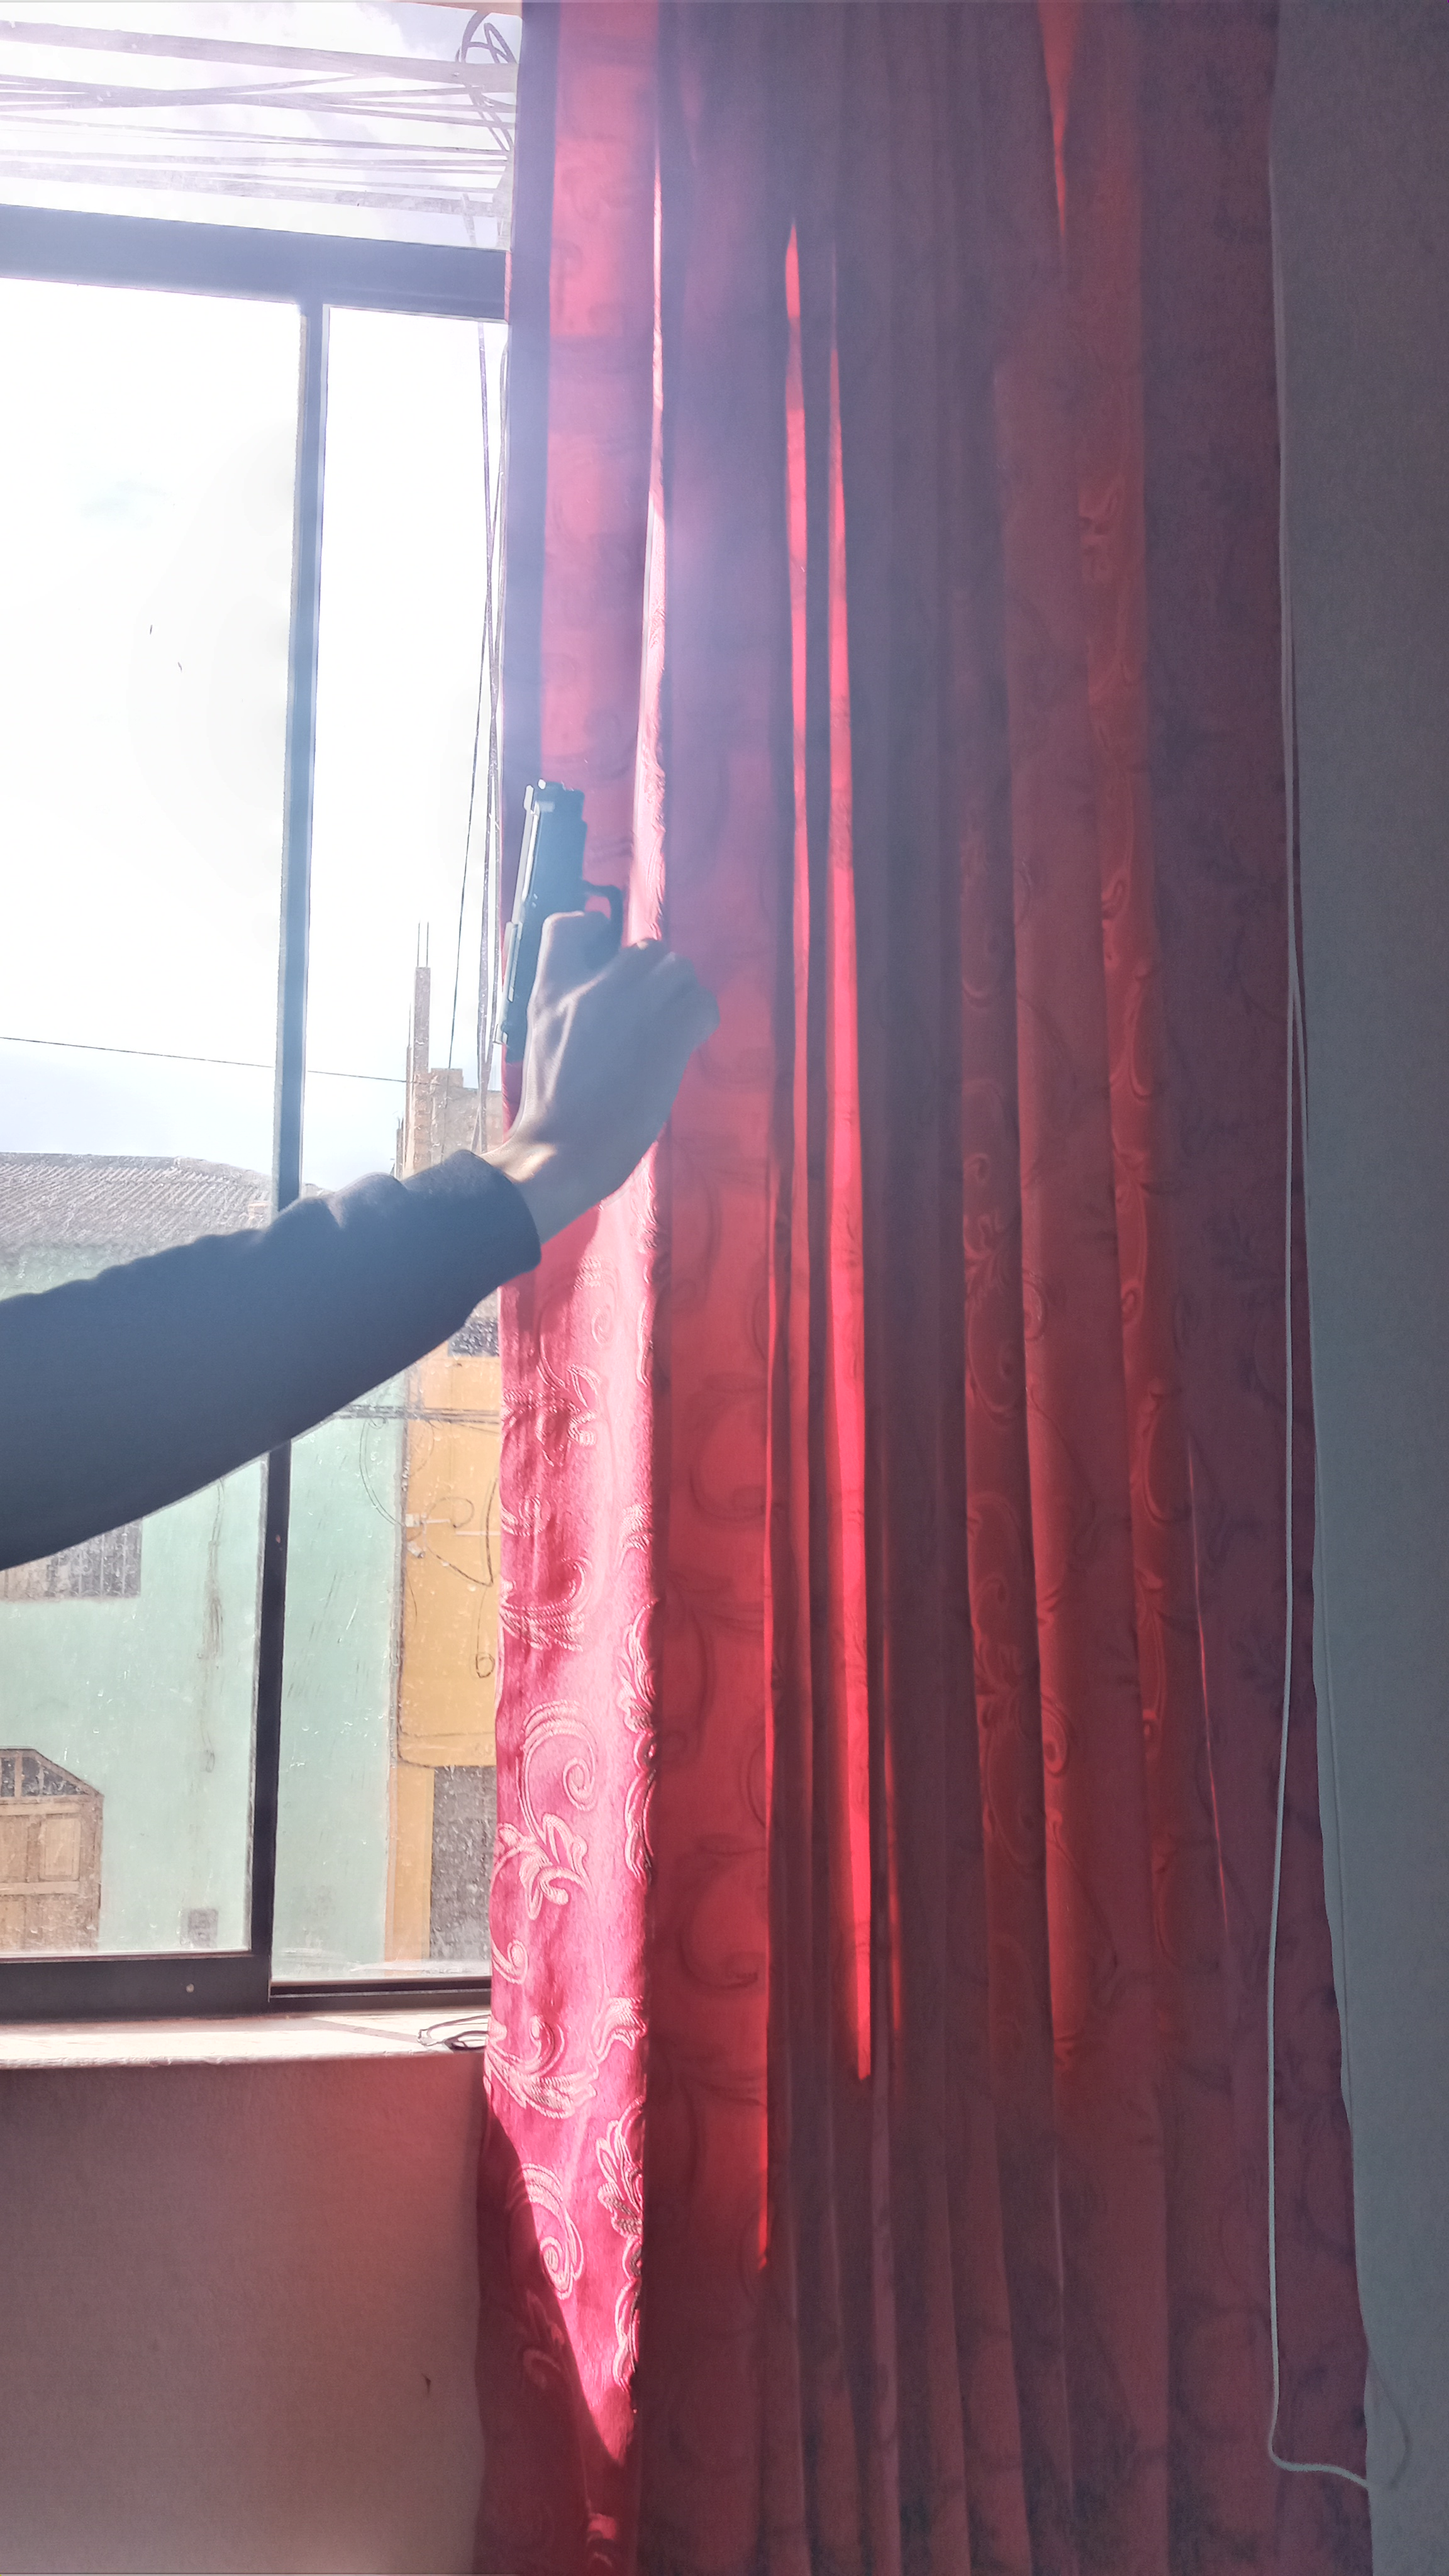Arma: (487, 786, 596, 1079)
